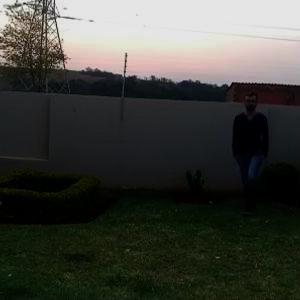follow: (221, 94, 269, 202)
